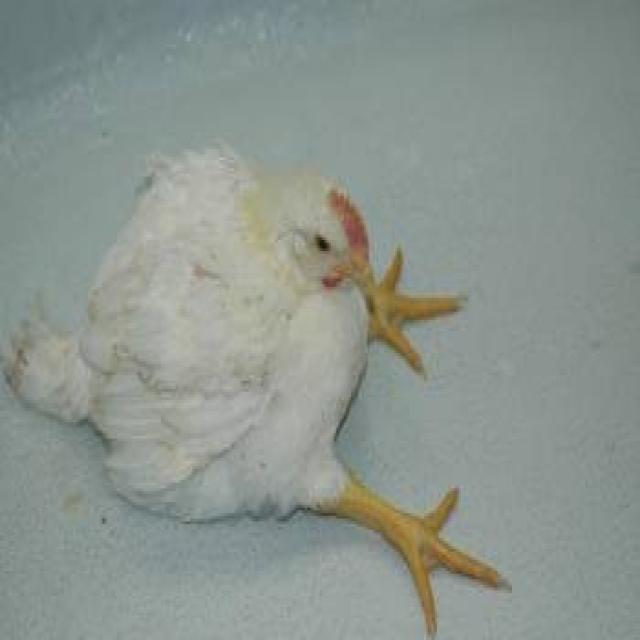abnormal chicken: (15, 140, 518, 616)
